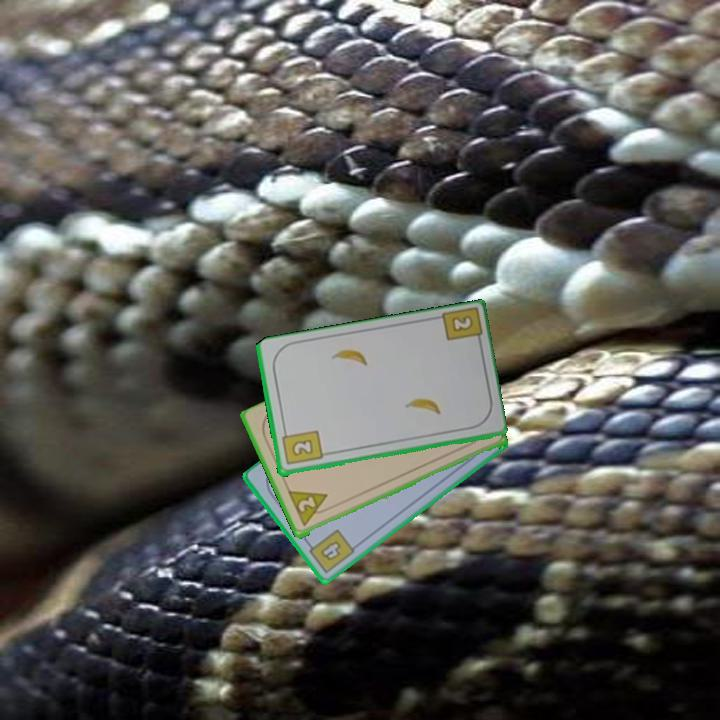2b: (278, 426, 325, 468), (447, 312, 476, 335)
2p: (294, 493, 318, 516)
4b: (303, 526, 358, 576)
